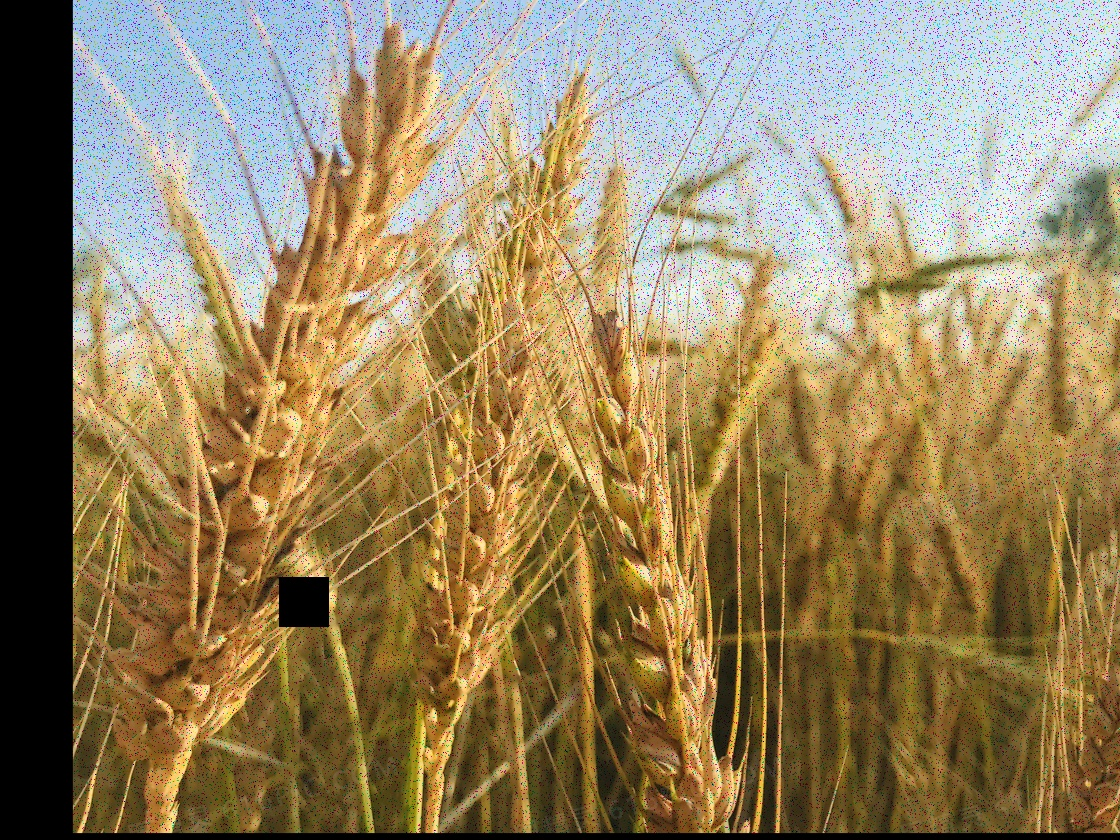wheat: (125, 49, 427, 776), (419, 131, 562, 747), (590, 329, 760, 828)
